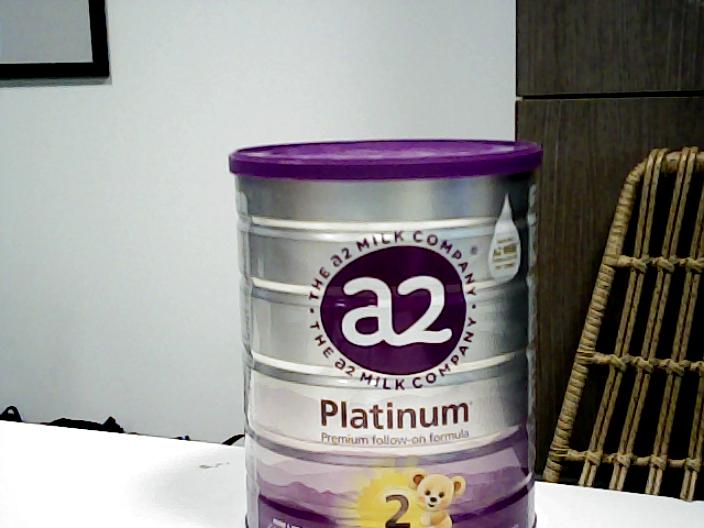Babymilk-powder_900-999g_NonHalal_NonHealthy: (229, 137, 542, 528)
